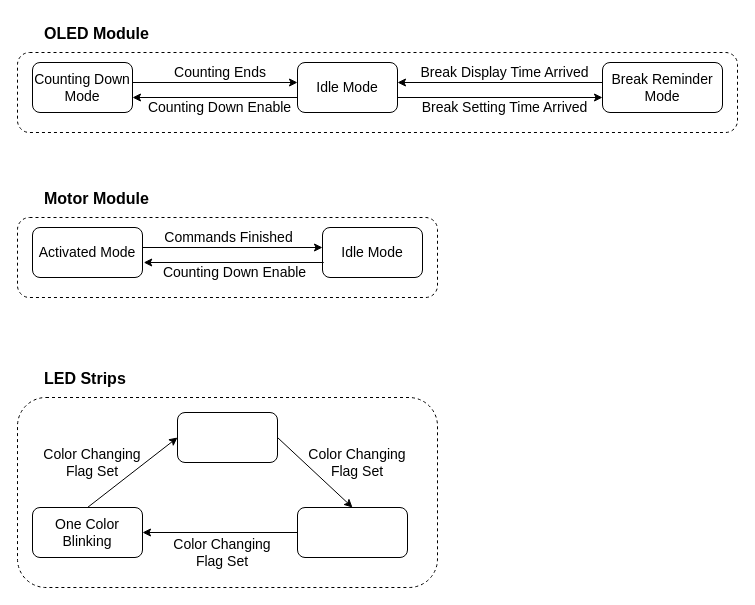
This 755x605 diagram has some shape labels left out. The centre of each missing label's shape, as x and y in pixels:
Multiple Color Holding: (352,532)
One Color Holding: (227,437)
